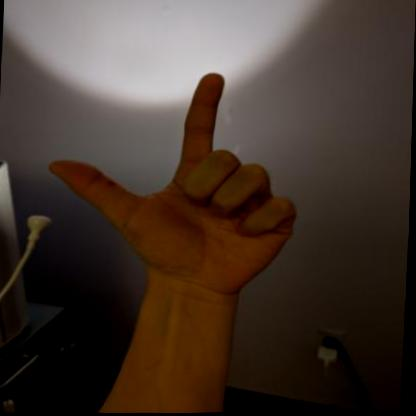L: (40, 65, 306, 300)
